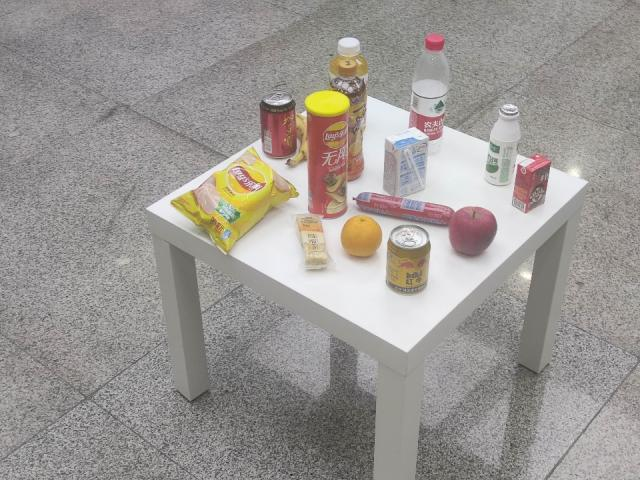Canned_drinks: (387, 221, 431, 297), (261, 92, 297, 158)
bottle: (402, 30, 455, 152)
cylinder: (300, 88, 351, 216)
drink_box: (378, 121, 432, 199), (506, 151, 556, 213)
